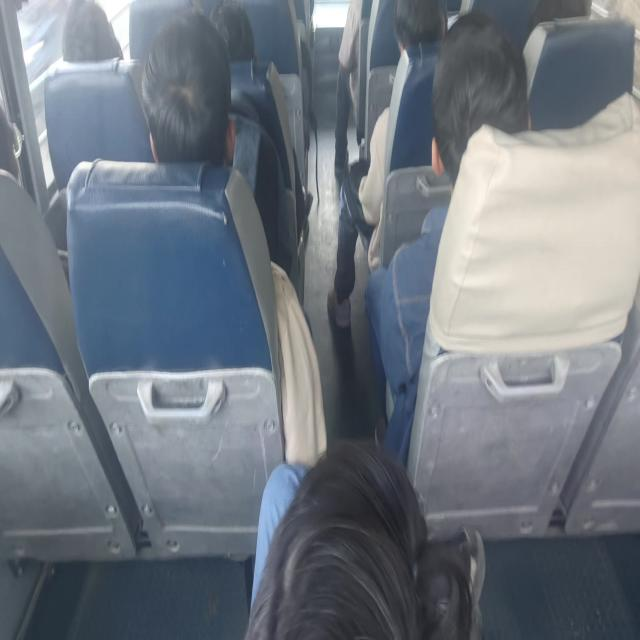person: (238, 429, 481, 640), (441, 25, 533, 206), (149, 24, 234, 171), (387, 0, 457, 62), (60, 0, 125, 65), (196, 0, 258, 56), (537, 0, 594, 40)
